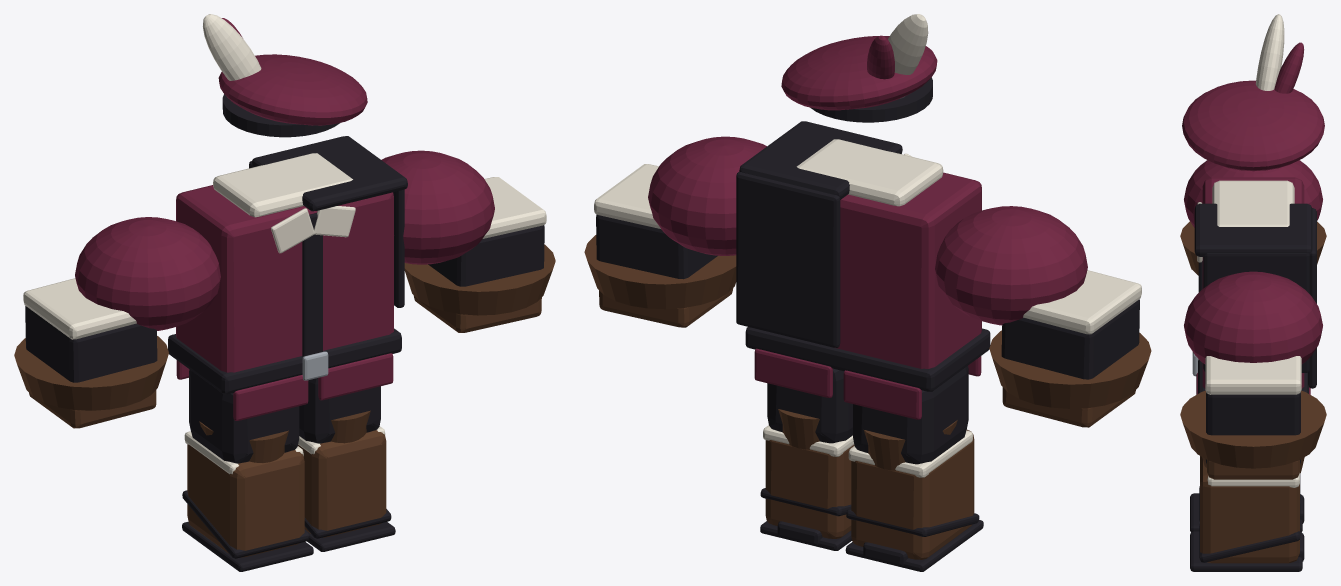
The model's file is DuelistArmorSet.ready.glb.
3 views of the same model, side by side, from view 1: azimuth 30°, elevation 25°; view 2: azimuth 150°, elevation 25°; view 3: azimuth 270°, elevation 25° (orthographic). The views are drawn at different scales.
Visible parts, largest first — view 1: Chestplate, RightLowerArm, RightBoots, LeftLowerArm, RightUpperArm, Helmet, LeftBoots, LeftUpperArm, RightLeggings, LeftLeggings; view 2: Chestplate, RightLowerArm, LeftLowerArm, RightUpperArm, RightBoots, Helmet, LeftBoots, LeftUpperArm, RightLeggings, LeftLeggings; view 3: LeftLowerArm, Chestplate, Helmet, LeftUpperArm, LeftBoots, RightUpperArm, RightLowerArm, LeftLeggings, RightBoots.
Boxes of the visible parts, left/top/right/bottom form: Chestplate: left=168, top=136, right=407, bottom=420; RightLowerArm: left=14, top=278, right=168, bottom=428; RightBoots: left=182, top=421, right=313, bottom=571; LeftLowerArm: left=404, top=177, right=555, bottom=332; RightUpperArm: left=75, top=217, right=220, bottom=330; Helmet: left=203, top=14, right=367, bottom=137; LeftBoots: left=298, top=410, right=395, bottom=551; LeftUpperArm: left=381, top=150, right=494, bottom=264; RightLeggings: left=184, top=369, right=303, bottom=474; LeftLeggings: left=298, top=378, right=385, bottom=454; Chestplate: left=736, top=121, right=990, bottom=419; RightLowerArm: left=989, top=270, right=1151, bottom=427; LeftLowerArm: left=584, top=164, right=736, bottom=327; RightUpperArm: left=935, top=206, right=1087, bottom=325; RightBoots: left=845, top=420, right=983, bottom=571; Helmet: left=781, top=14, right=937, bottom=122; LeftBoots: left=760, top=409, right=854, bottom=550; LeftUpperArm: left=648, top=136, right=766, bottom=255; RightLeggings: left=848, top=366, right=972, bottom=477; LeftLeggings: left=763, top=368, right=854, bottom=456; LeftLowerArm: left=1180, top=356, right=1326, bottom=479; Chestplate: left=1192, top=177, right=1316, bottom=394; Helmet: left=1182, top=14, right=1324, bottom=171; LeftUpperArm: left=1184, top=271, right=1322, bottom=364; LeftBoots: left=1190, top=456, right=1304, bottom=571; RightUpperArm: left=1184, top=160, right=1322, bottom=227; RightLowerArm: left=1180, top=221, right=1326, bottom=275; LeftLeggings: left=1206, top=459, right=1300, bottom=487; RightBoots: left=1190, top=456, right=1304, bottom=532.
Size of the model in its own units: 6.37 by 6.09 by 1.64.
1 material, 1 textured.
